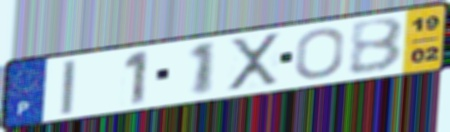1: (186, 39, 218, 99), (122, 48, 152, 107)
B: (347, 16, 407, 77)
I: (59, 57, 79, 117)
O: (293, 26, 347, 81)
X: (227, 30, 282, 94)
